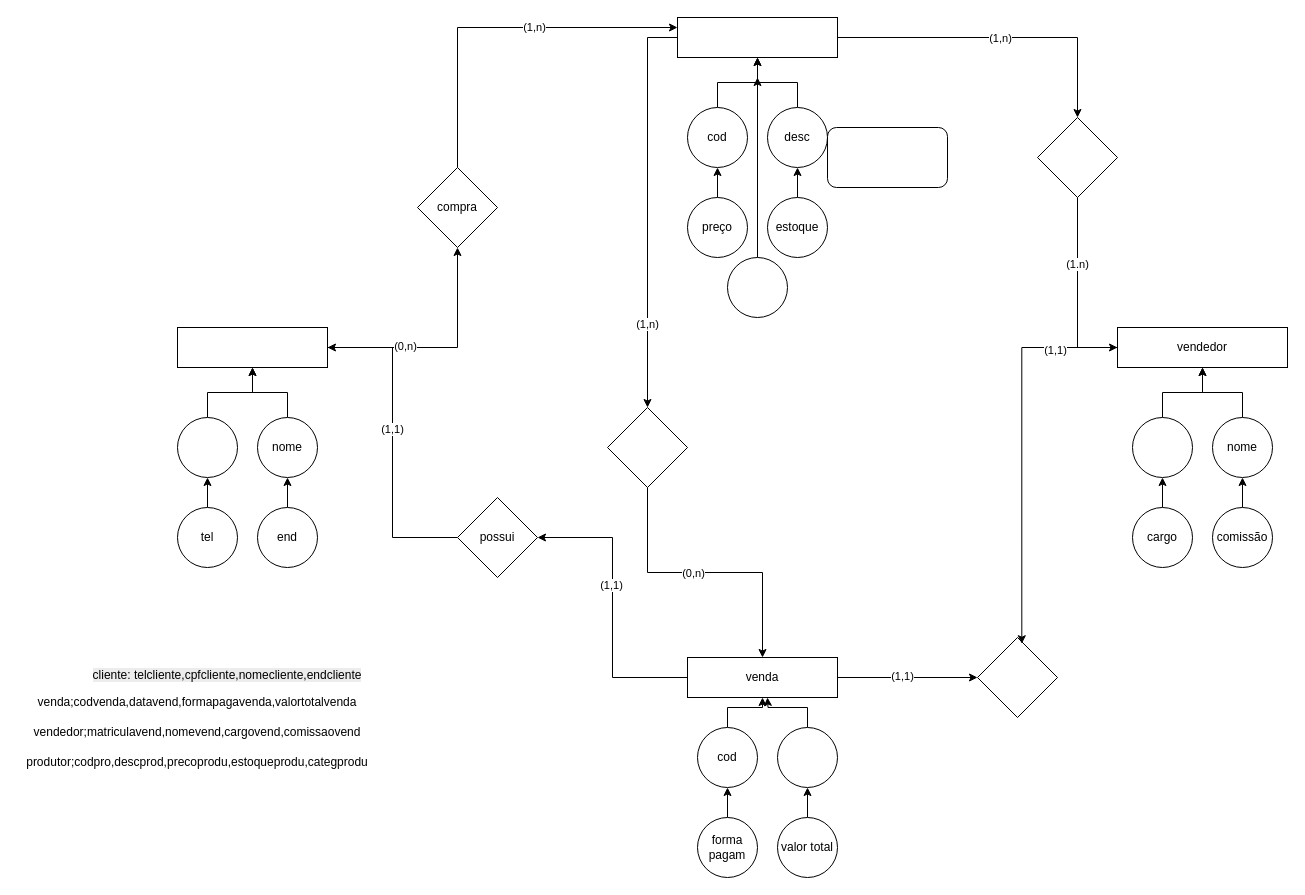
The diagram is 1305 pixels wide and 895 high, and some of its shapes have lost their labels. Here are the shapes that lost their labels. From the top down, the box of each, then its label:
(676, 16, 838, 58): produto
(1036, 116, 1118, 198): relaçao
(726, 256, 788, 318): categ
(176, 326, 328, 368): Cliente
(176, 416, 238, 478): cpf
(606, 406, 688, 488): relacao
(1132, 416, 1192, 478): matricula
(976, 636, 1058, 718): item venda
(776, 726, 838, 788): data
